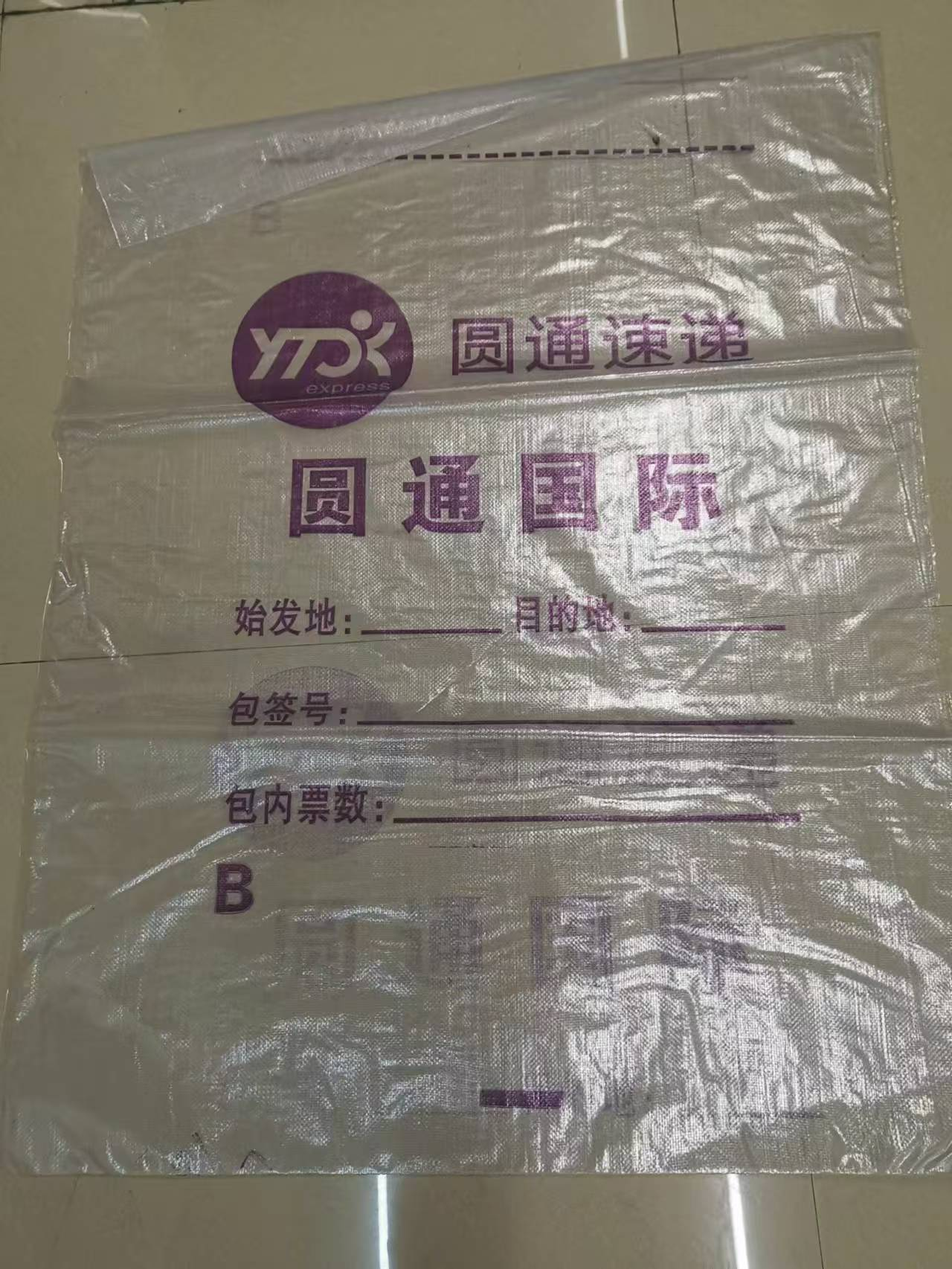Parcel: (29, 41, 948, 1172)
